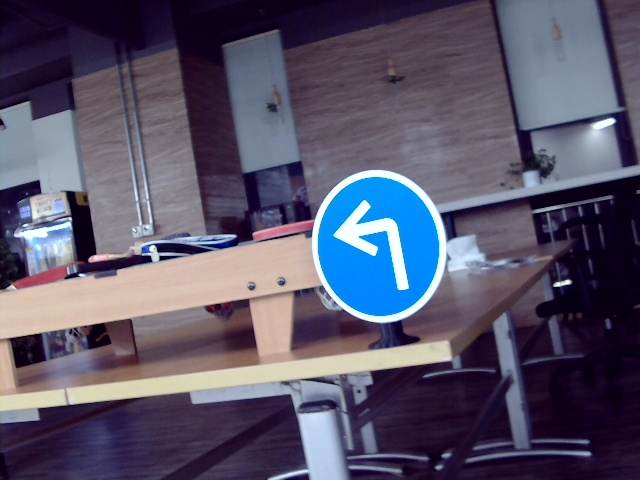turn_left: (333, 195, 414, 296)
